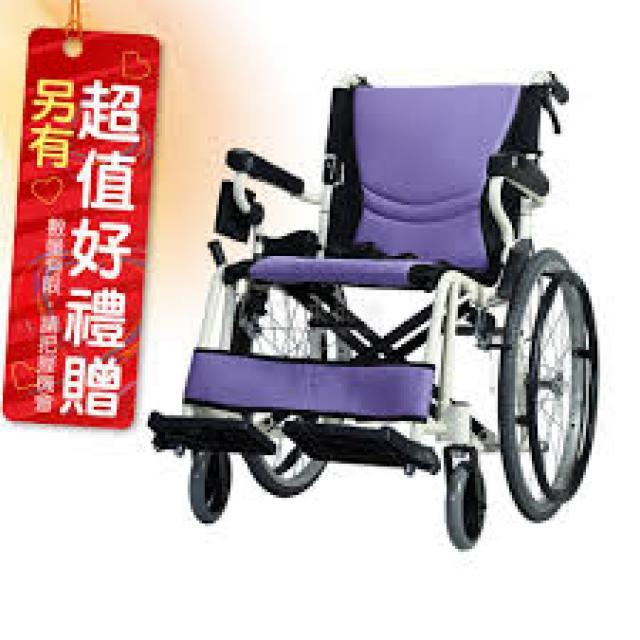wheelchair: (142, 54, 623, 546)
